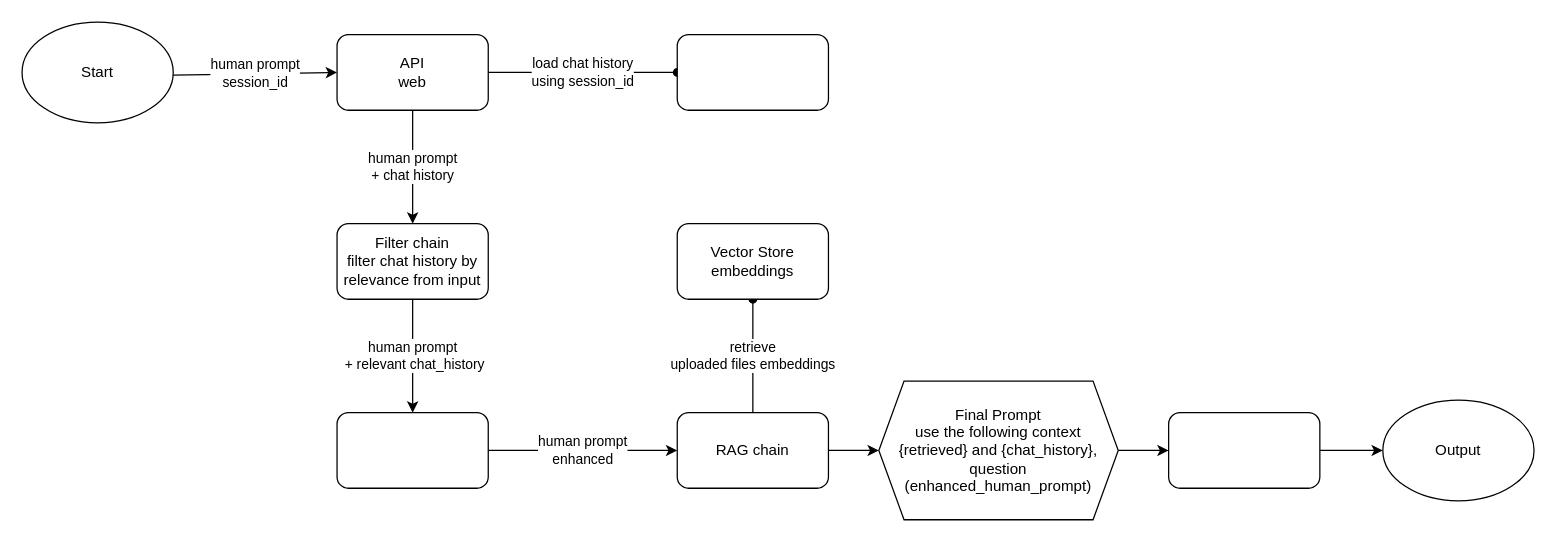
The diagram is 1556 pixels wide and 542 high, and some of its shapes have lost their labels. The shapes that lost their labels are listed below. From the top down, each one's centre as x and y in pixels, then its label:
At (x=752, y=71): "Data Store SQL".
At (x=412, y=449): "Contextual chain enhance human input using relevant history".
At (x=1243, y=449): "LLM (brain)".
